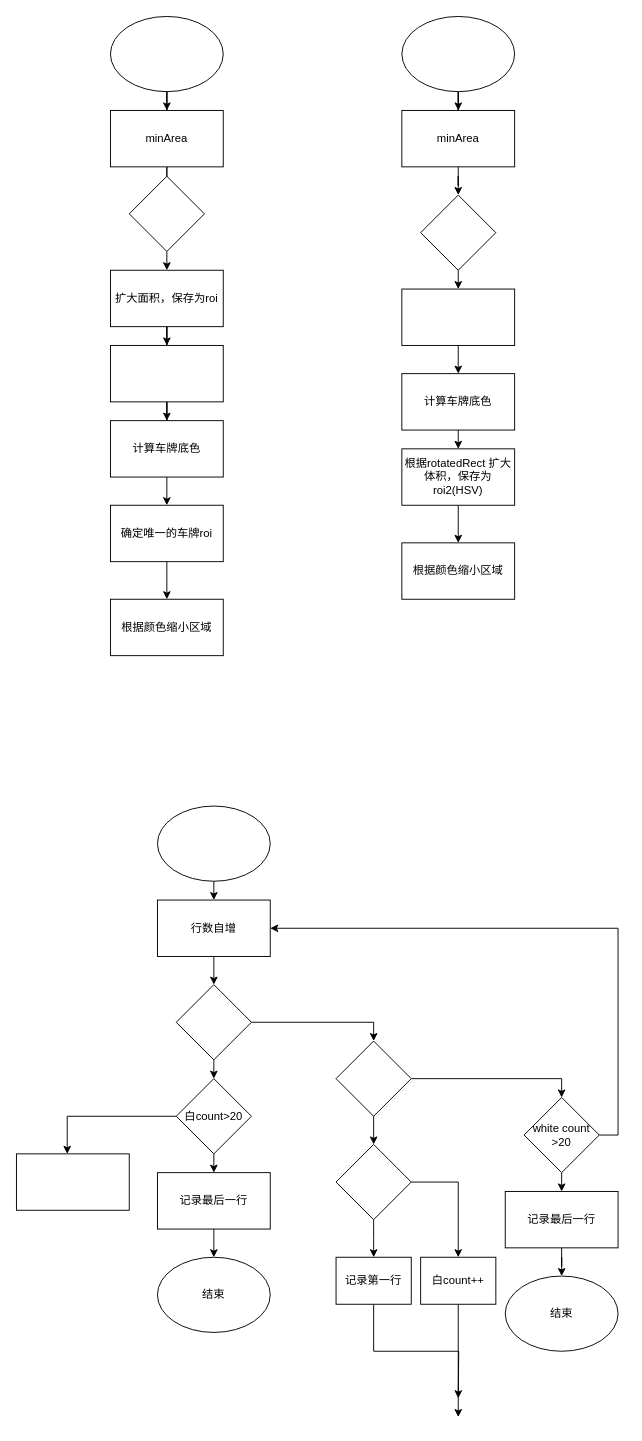
Some shapes in this 642 by 1441 pixel diagram are drawn without their labels. Here are the shapes that lost their labels. From the top down, the centre of each, then its label:
(x=166, y=213): 比例为>2
(x=458, y=316): 1 保存rotatedRect , 2 保存roi(HSV)
(x=166, y=373): roi转HSV
(x=213, y=843): 开始
(x=213, y=1022): 是否为最后一行
(x=373, y=1078): 是否为白区
(x=72, y=1181): 返回err
(x=373, y=1182): 前一个为黑区
